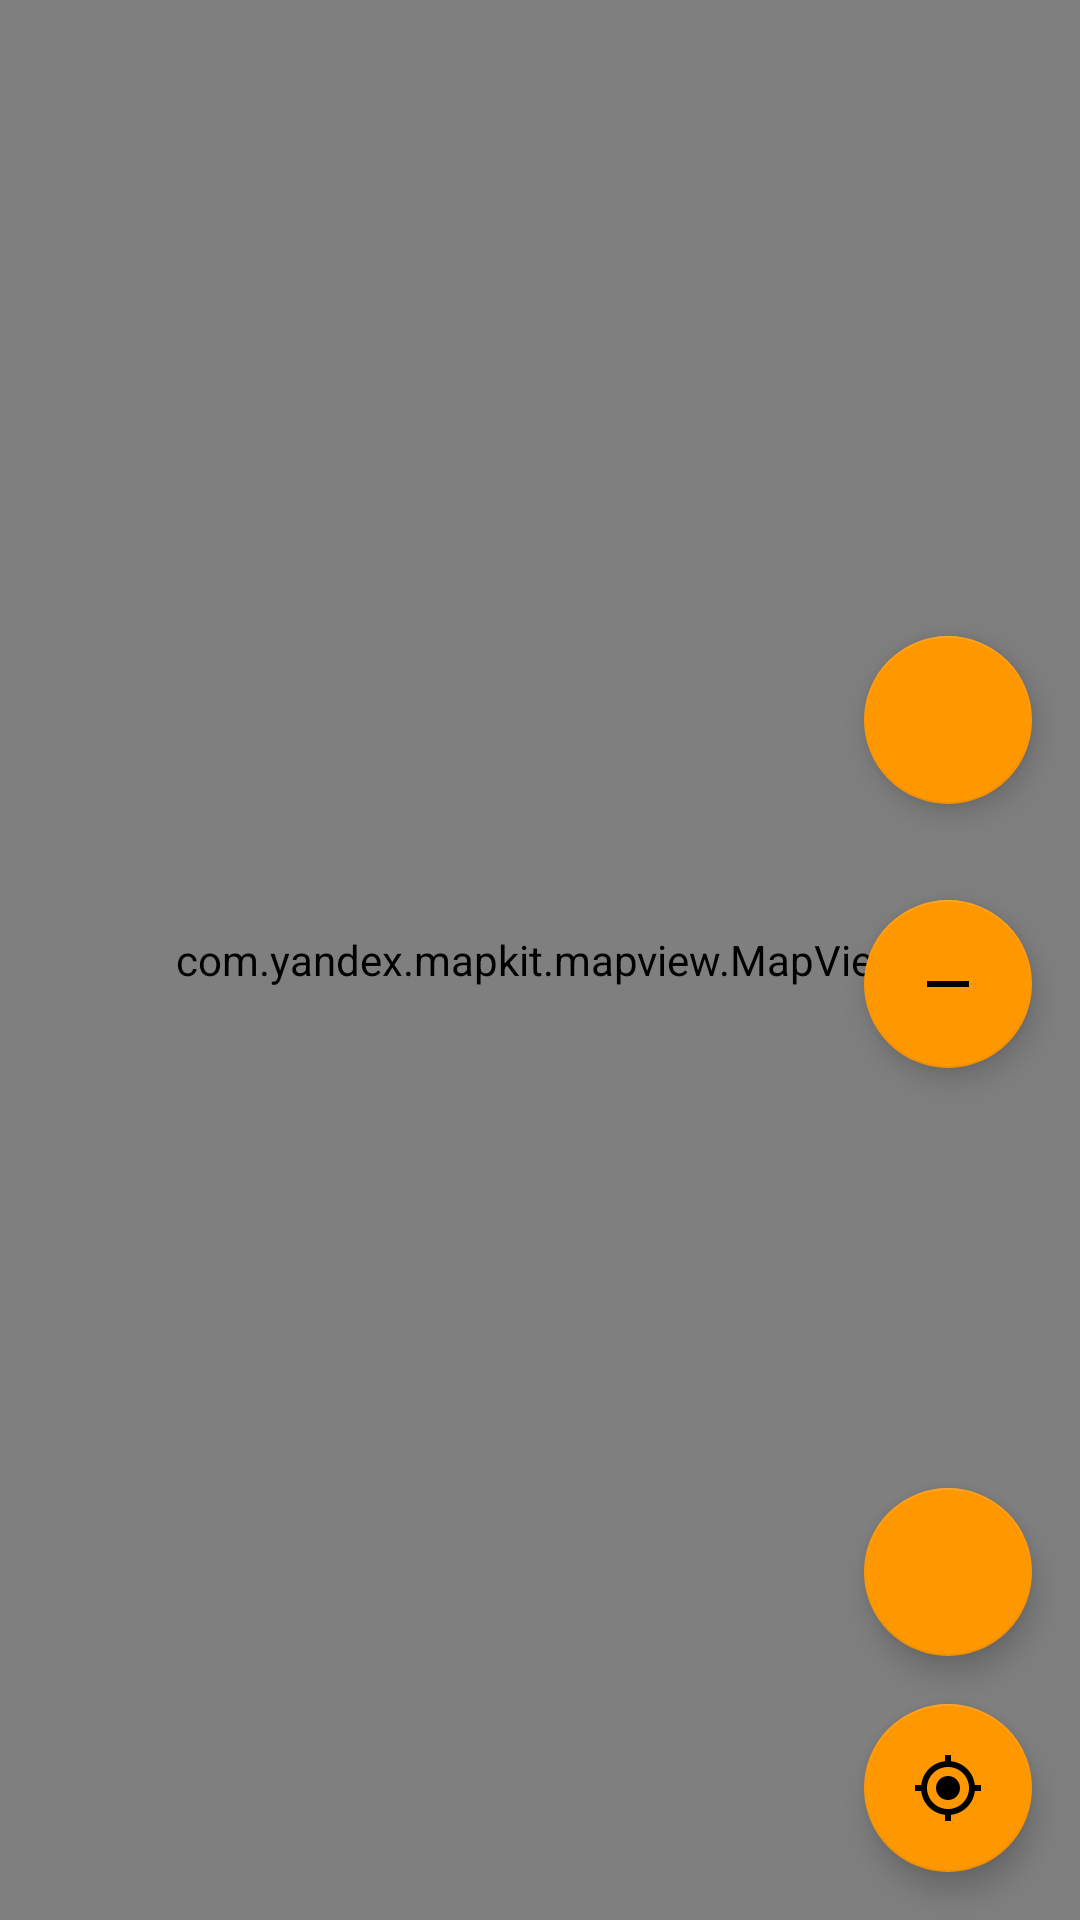

Icon click points for this 1080px x 1920px phone screenshot, format point (x, y):
Location: point (948, 1788)
Zoom minus: point (948, 984)
